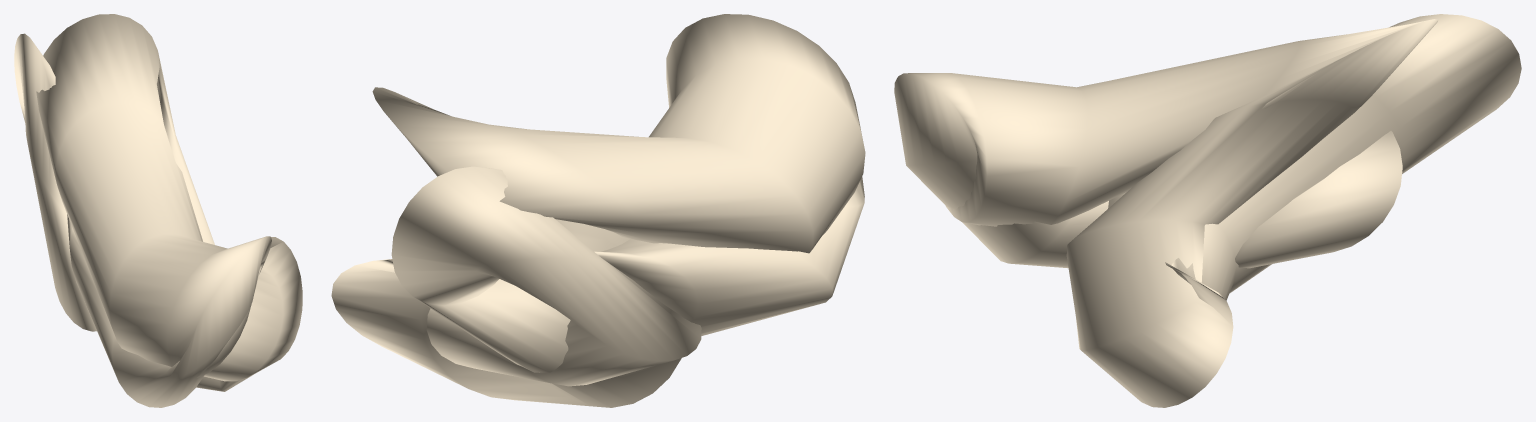
3 renders of one model, left to right at view 1: azimuth 30°, elevation 25°; view 2: azimuth 150°, elevation 25°; view 3: azimuth 270°, elevation 25°, orthographic. The views are drawn at different scales.
Parts seen in each view (by area): view 1: SM_CE; view 2: SM_CE; view 3: SM_CE.
Part boxes in pixels (x1,y1,x2,y2): SM_CE: (14, 14, 302, 407); SM_CE: (331, 14, 865, 407); SM_CE: (894, 14, 1521, 407).
Size of the model in its own units: 7.91 by 8.31 by 13.18.
